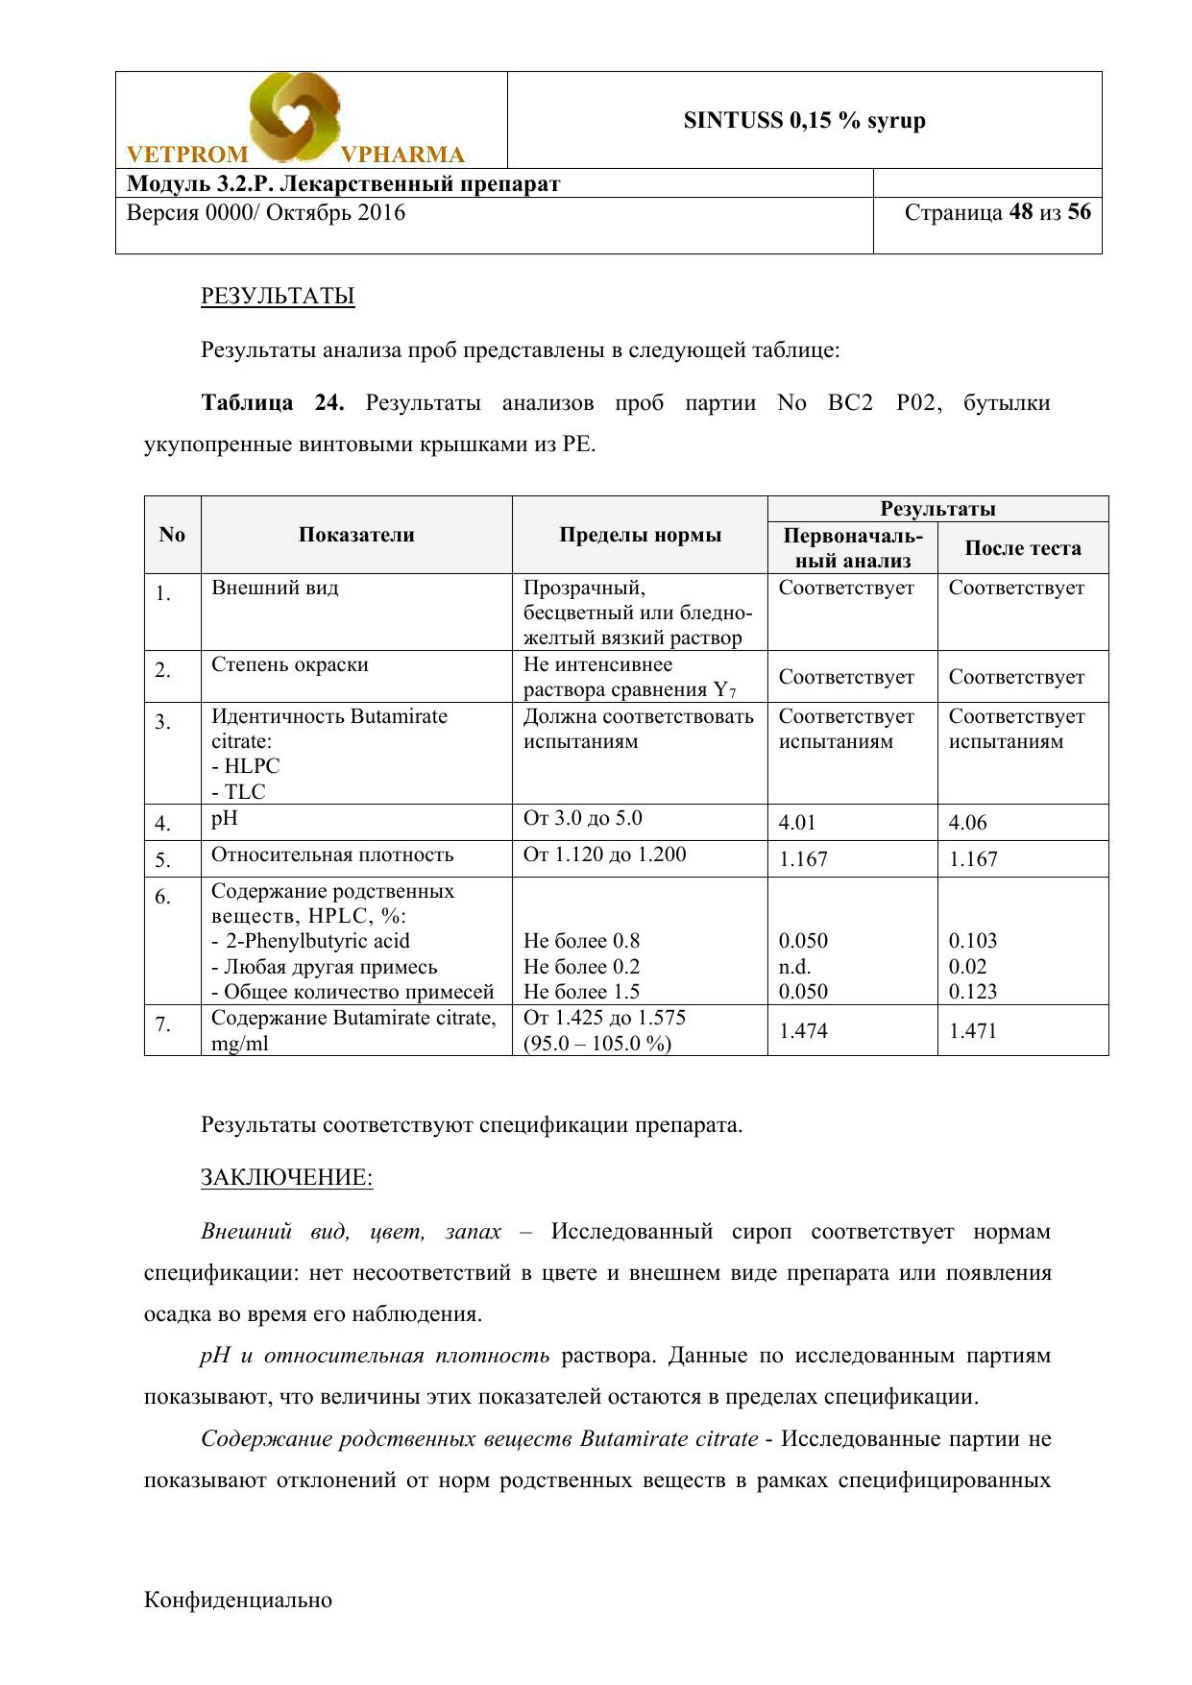merged_cells: (142, 494, 1109, 1055), (114, 70, 1106, 255)
